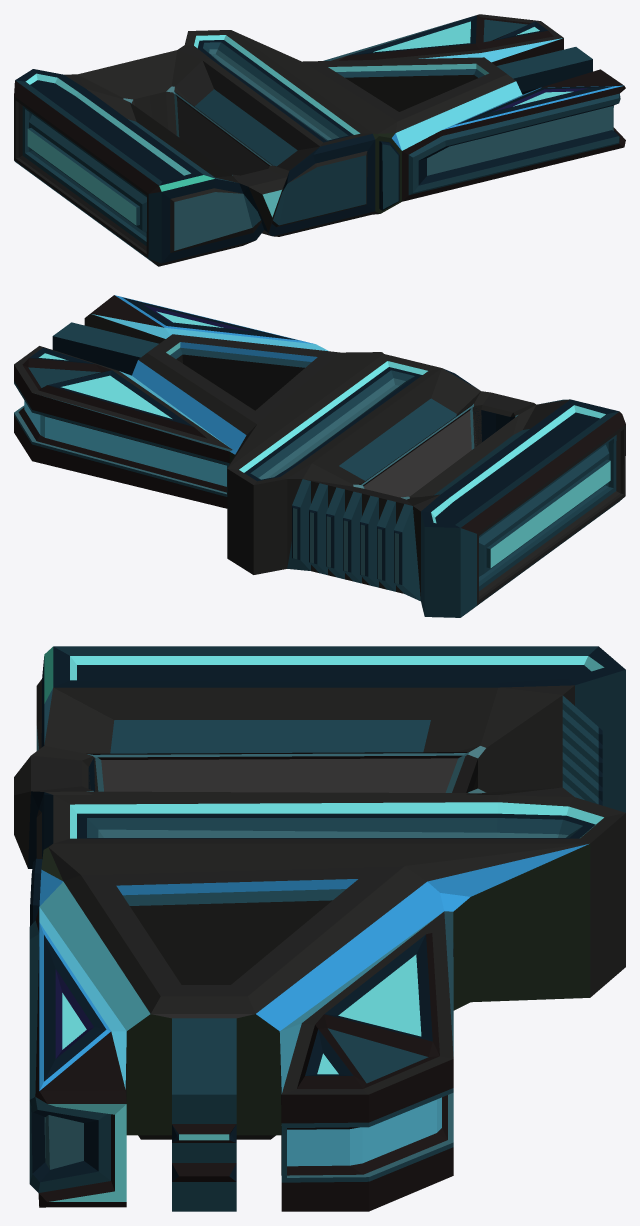
The model's file is key.glb.
3 renders of one model, top to bottom at view 1: azimuth 30°, elevation 25°; view 2: azimuth 150°, elevation 25°; view 3: azimuth 270°, elevation 25°, orthographic. The views are drawn at different scales.
Parts seen in each view (by area): view 1: Cube; view 2: Cube; view 3: Cube.
Boxes of the visible parts, left/top/right/bottom form: Cube: left=14, top=14, right=625, bottom=266; Cube: left=14, top=295, right=625, bottom=617; Cube: left=14, top=646, right=625, bottom=1211.
Size of the model in its own units: 7.25 by 1.18 by 4.26.
Materials: 1 (1 with a texture image).
